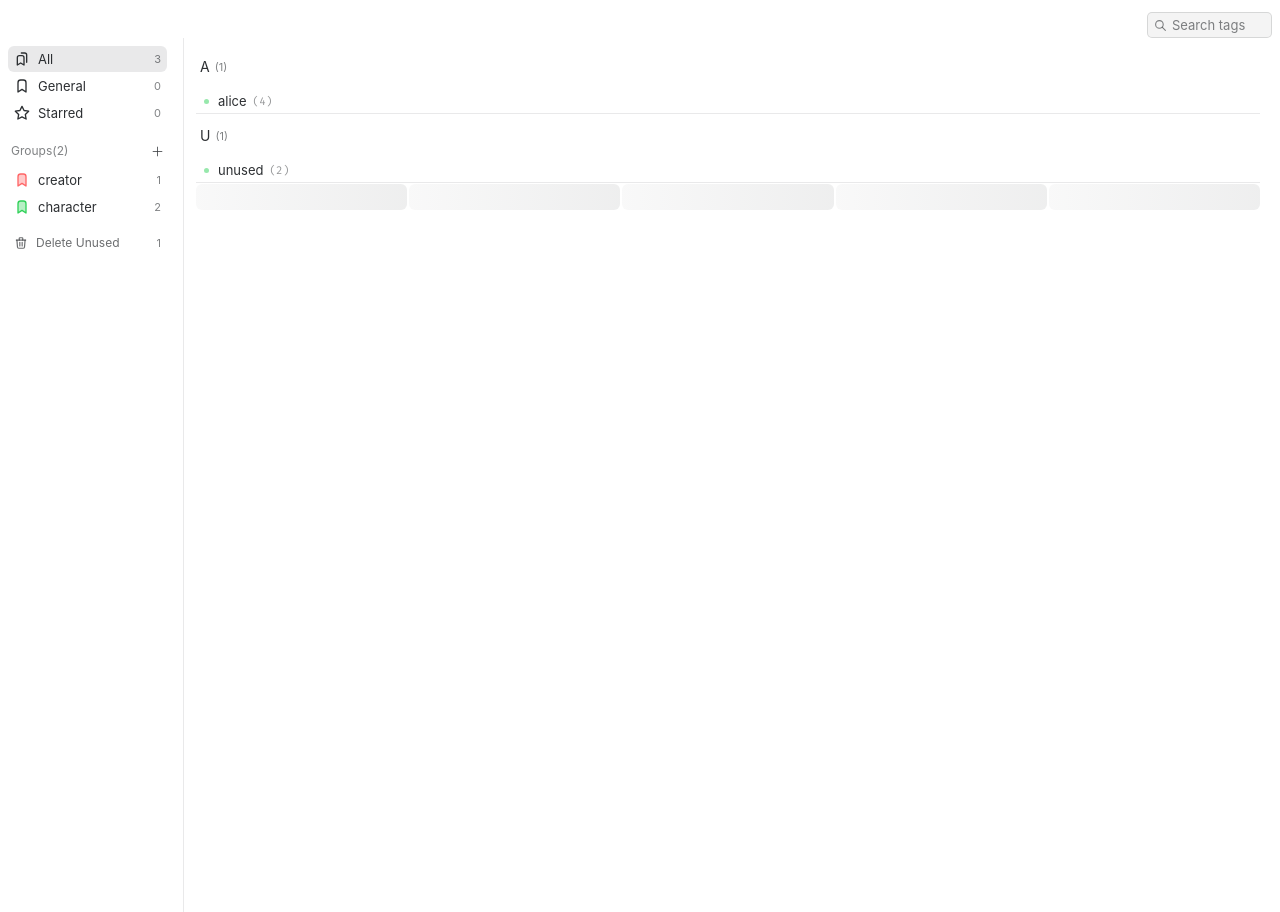
Test: TagManagerScreen › ignores a stale load-more response after a filter reset
expect the text "unused" is shown: met, box [218,157,264,183]
Type "bob" into the field labelled "Search tags" at (1210, 25), box [1147,12,1272,38]
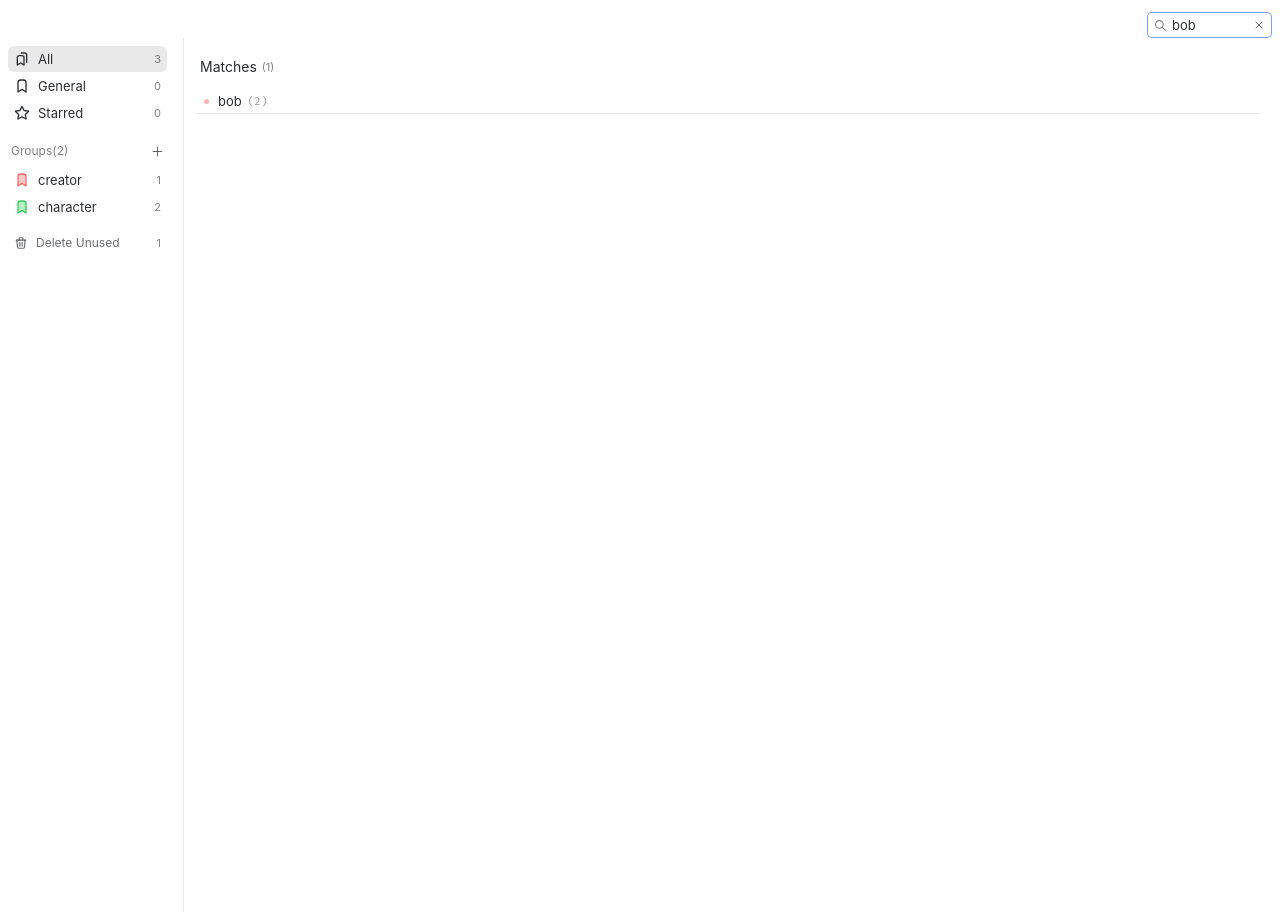
expect the text "bob" is shown: met, box [218,88,242,114]
